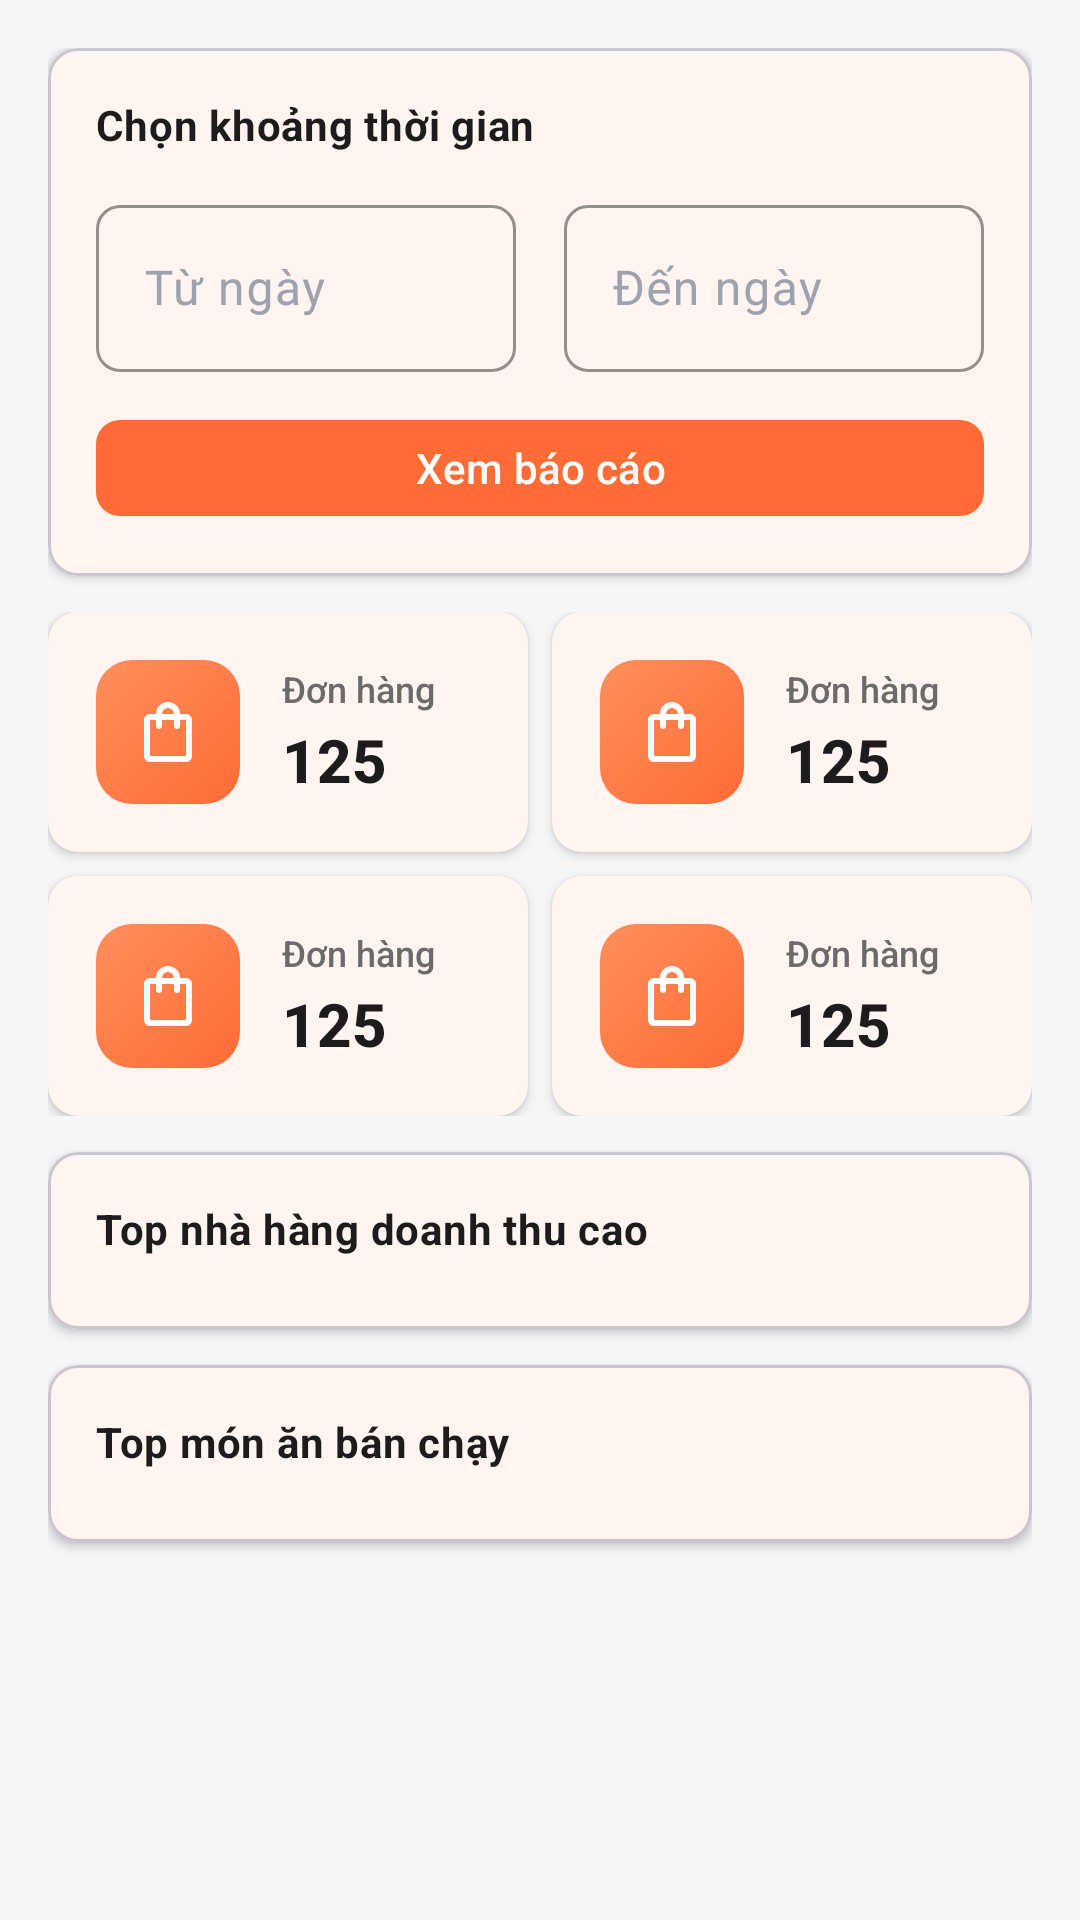

Where icons sit on this 1080x1920 app screen, as [left=x1, top=y1, right=x2, bottom=y2]:
orders: [left=144, top=702, right=192, bottom=762], [left=648, top=702, right=696, bottom=762], [left=144, top=966, right=192, bottom=1026], [left=648, top=966, right=696, bottom=1026]
